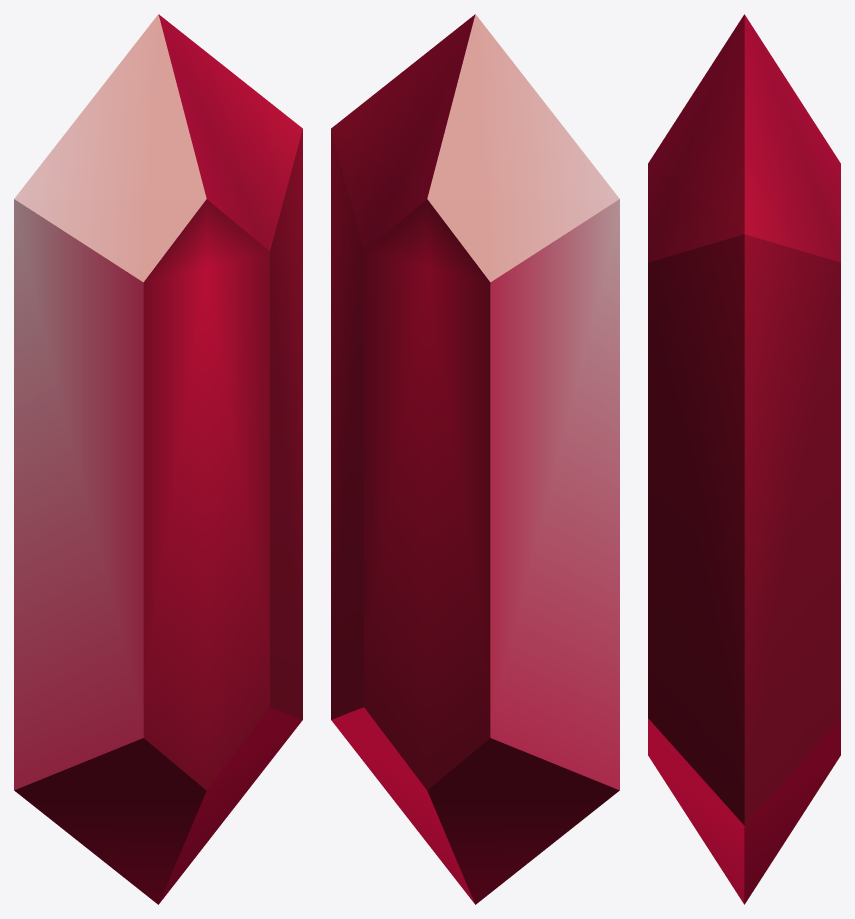
Rendered from e_3D_manera_ruby_color.dae.
3 renders of one model, left to right at view 1: azimuth 30°, elevation 25°; view 2: azimuth 150°, elevation 25°; view 3: azimuth 270°, elevation 25°, orthographic.
Parts seen in each view (by area): view 1: |ruby; view 2: |ruby; view 3: |ruby.
Part boxes in pixels (x1,y1,x2,y2): |ruby: [14, 14, 302, 904]; |ruby: [331, 14, 619, 904]; |ruby: [648, 14, 840, 904].
Bounding box in the file's own units: 0.5224 × 0.3023 × 1.54.
1 material, 1 textured.
